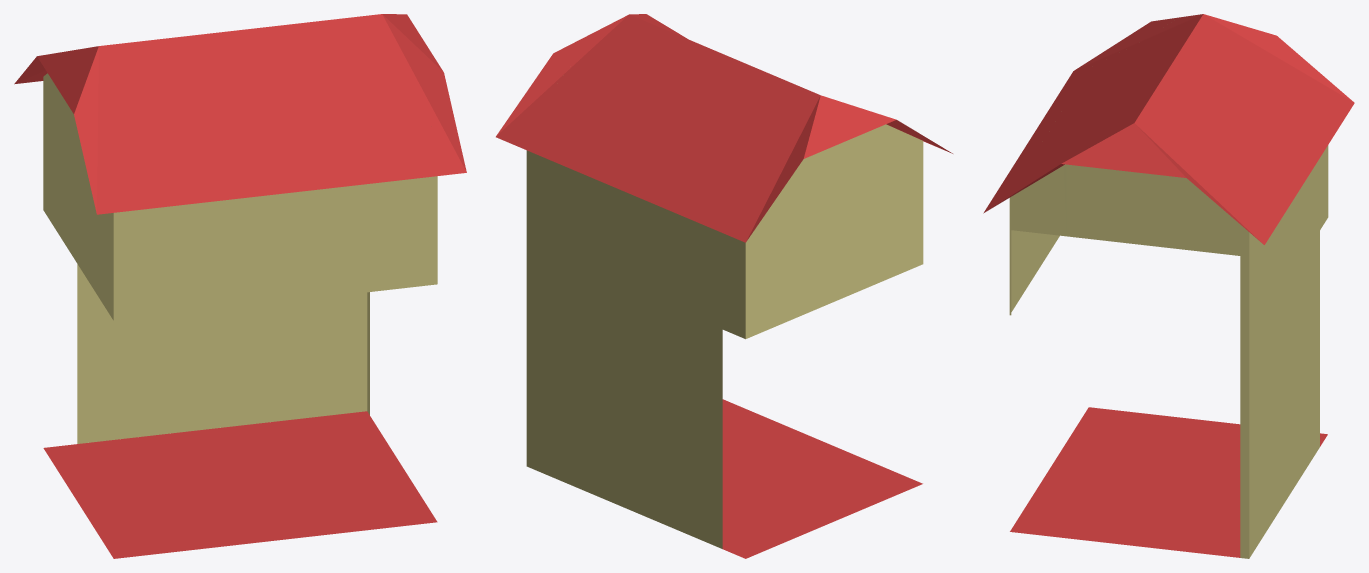
3 views of the same model, side by side, from view 1: azimuth 30°, elevation 25°; view 2: azimuth 150°, elevation 25°; view 3: azimuth 270°, elevation 25° (orthographic). The views are drawn at different scales.
Visible parts, largest first — view 1: group_5, group_3, group_6, group_4; view 2: group_5, group_3, group_6, group_4; view 3: group_5, group_3, group_6, group_4.
Part boxes in pixels (x1,y1,x2,y2): group_5: (43,73,437,443); group_3: (17,14,466,187); group_6: (43,411,437,558); group_4: (14,14,466,214); group_5: (526,124,923,548); group_3: (527,14,952,242); group_6: (722,399,922,558); group_4: (496,14,895,242); group_5: (1009,145,1328,558); group_3: (988,14,1354,220); group_6: (1010,407,1327,557); group_4: (984,17,1354,244).
Size of the model in its own units: 14.22 by 12.81 by 15.77.
